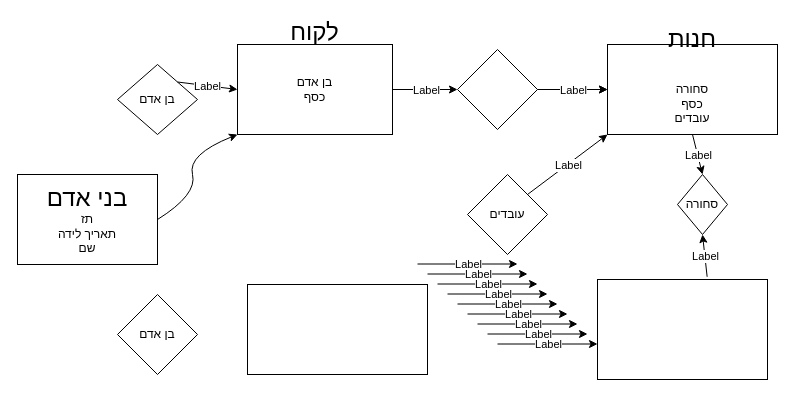
The diagram is 795 pixels wide and 418 high, and some of its shapes have lost their labels. Each missing label, with the box of its shape:
כסף: (456, 48, 538, 130)
סחורה משחקים פרטי לבוש אביזרי ספורט: (596, 278, 768, 380)
עובדים בן אדם שכר מבוקש: (246, 284, 428, 374)
